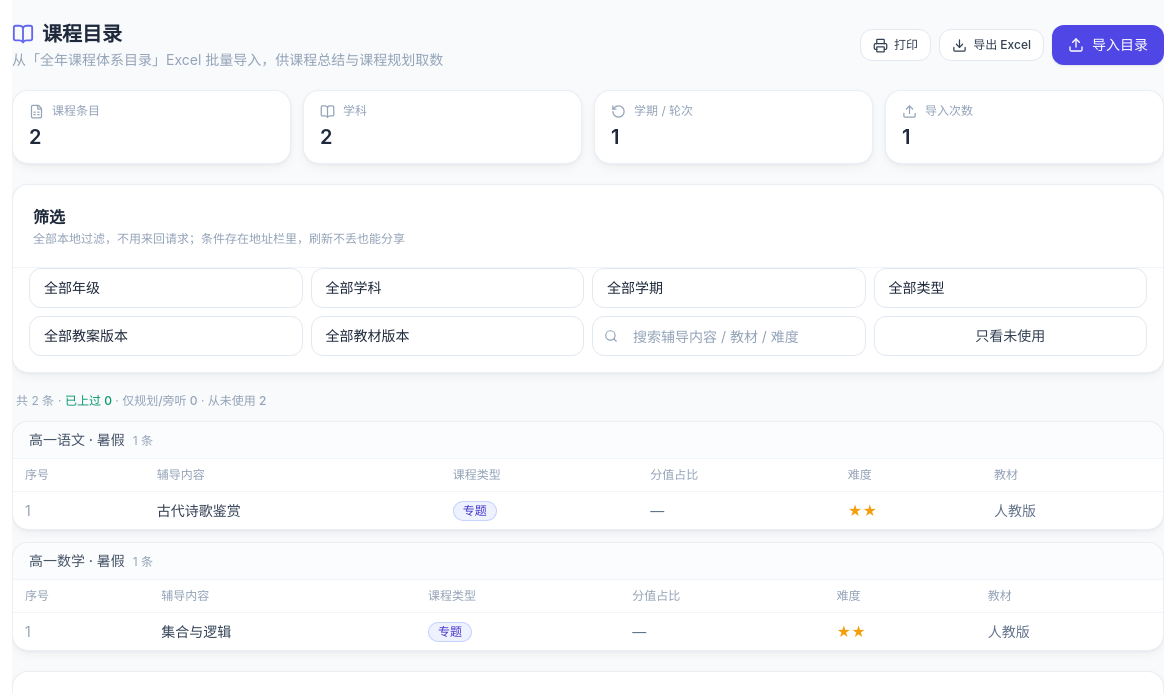
Scenario: 课程目录页 › 关键词筛选生效，无结果时可一键清空
The width and height of the screenshot is (1176, 693).
Expected: the text "集合与逻辑" is shown, [161,622,231,640]
# 搜「古代诗歌」只剩 1 条
Type "古代诗歌" into the field with placeholder "搜索辅导内容 / 教材 / 难度" at (729, 336), box [592,316,866,356]
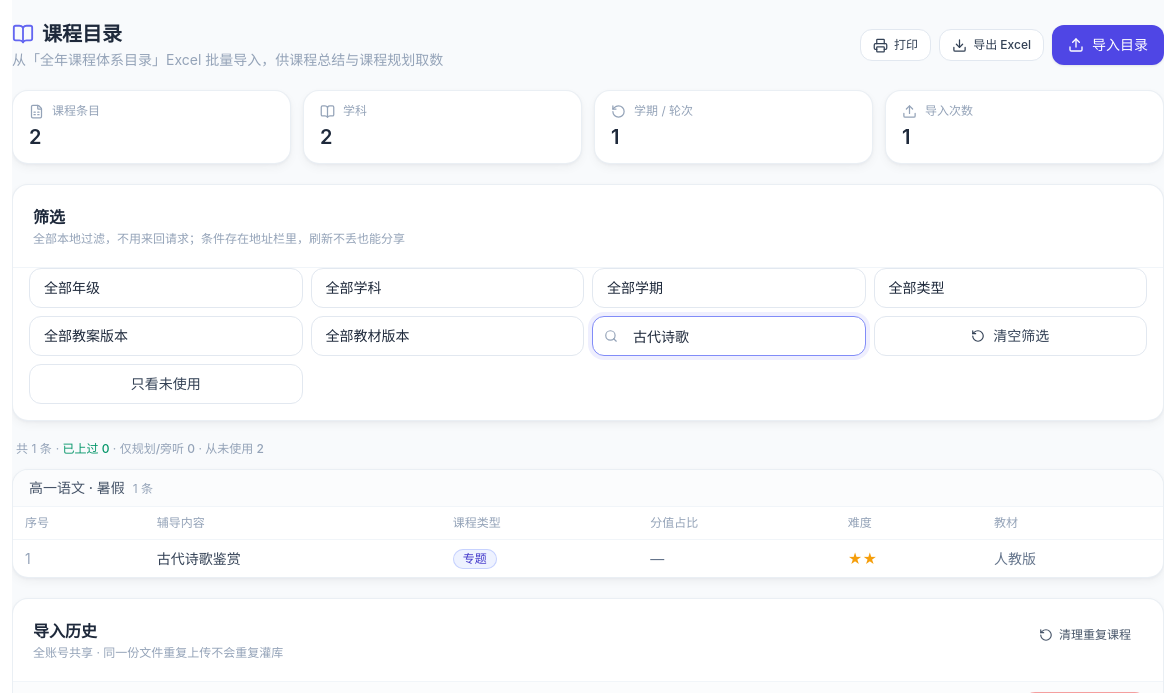
Expected: the text "古代诗歌鉴赏" is shown, [157,550,241,566]
Result: the text "集合与逻辑" is gone
# 搜不存在的关键词 → 空状态 + 清空筛选
Replace the text in the field with placeholder "搜索辅导内容 / 教材 / 难度" with "不存在" at (729, 336), box [592,316,866,356]
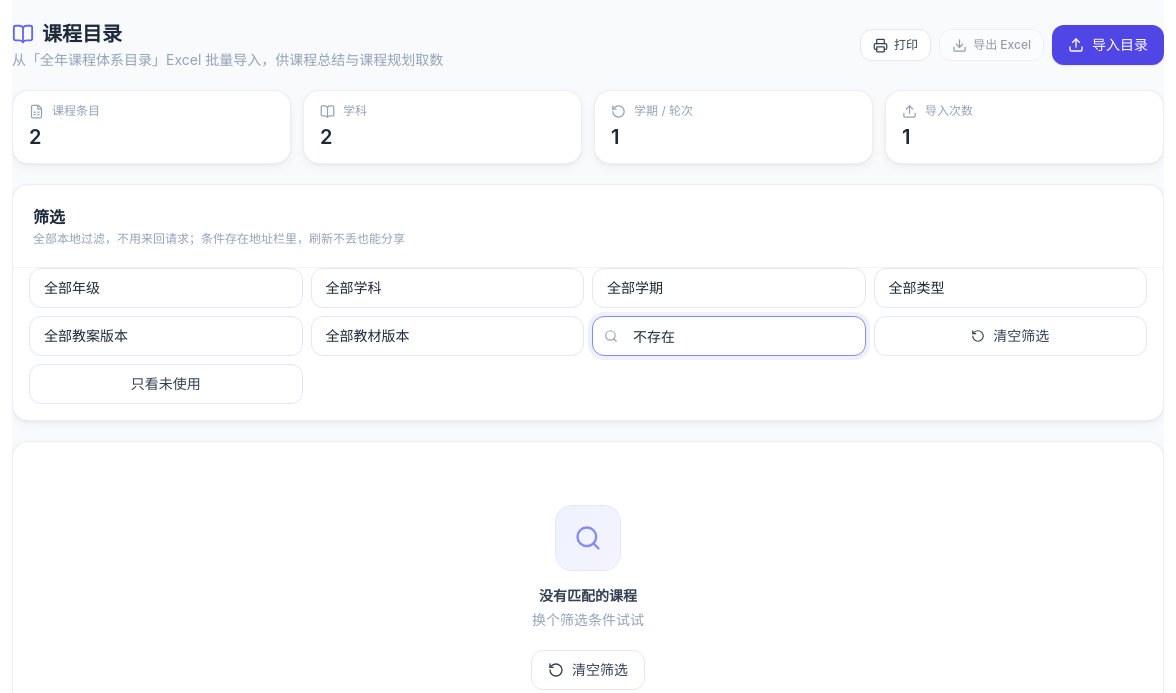
Result: the heading "没有匹配的课程" is shown at [539,586,637,606]
Result: the number of buttons "清空筛选" is 2
Click the button "清空筛选" below "换个筛选条件试试" at (588, 670), box [531,650,645,690]
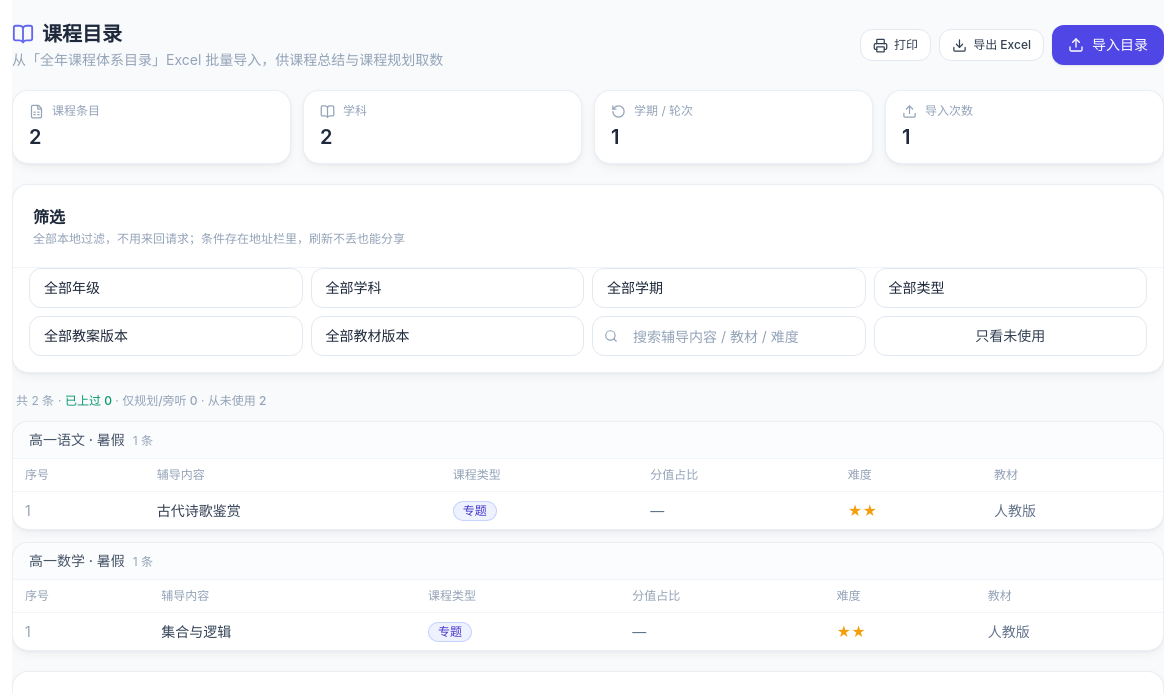
Result: the text "集合与逻辑" is shown at [161,622,231,640]
Result: the text "古代诗歌鉴赏" is shown at [157,502,241,518]
